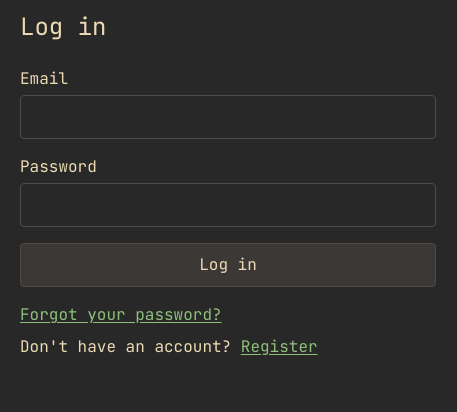
Scenario: Login › shows the backend's real detail message on wrong credentials
Type "logan@logandapp.com" into the field labelled "Email" at (228, 117), box x1=20 y1=95 x2=436 y2=139
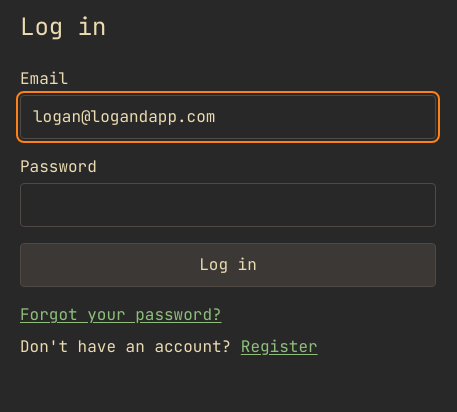
Type "wrong" into the password field labelled "Password" at (228, 205), box x1=20 y1=183 x2=436 y2=227
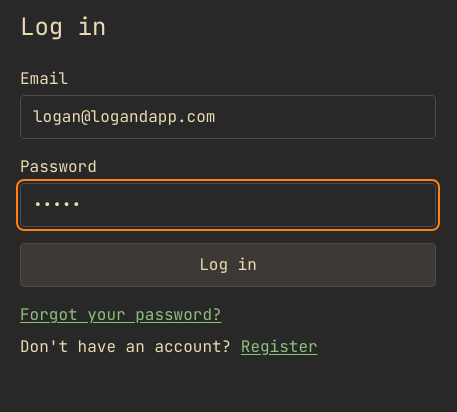
Click the button "Log in" at (228, 265), box x1=20 y1=243 x2=436 y2=287
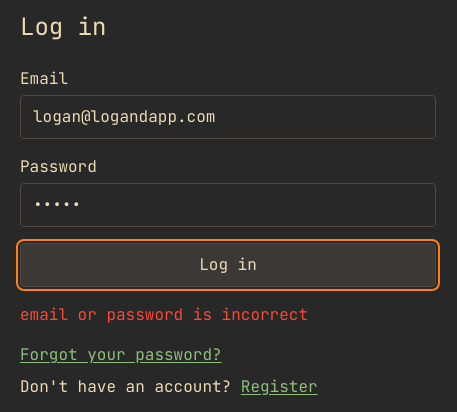
Expected: the message reads "email or password is incorrect", x1=20 y1=304 x2=308 y2=325
